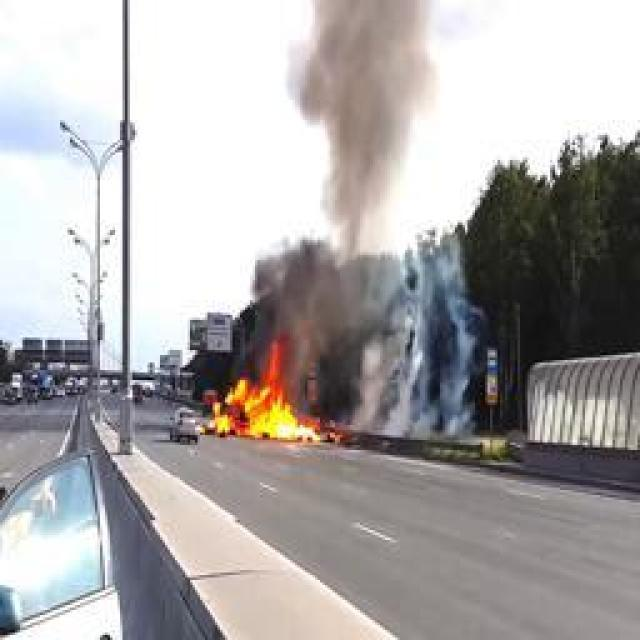Fire: (210, 344, 322, 442)
